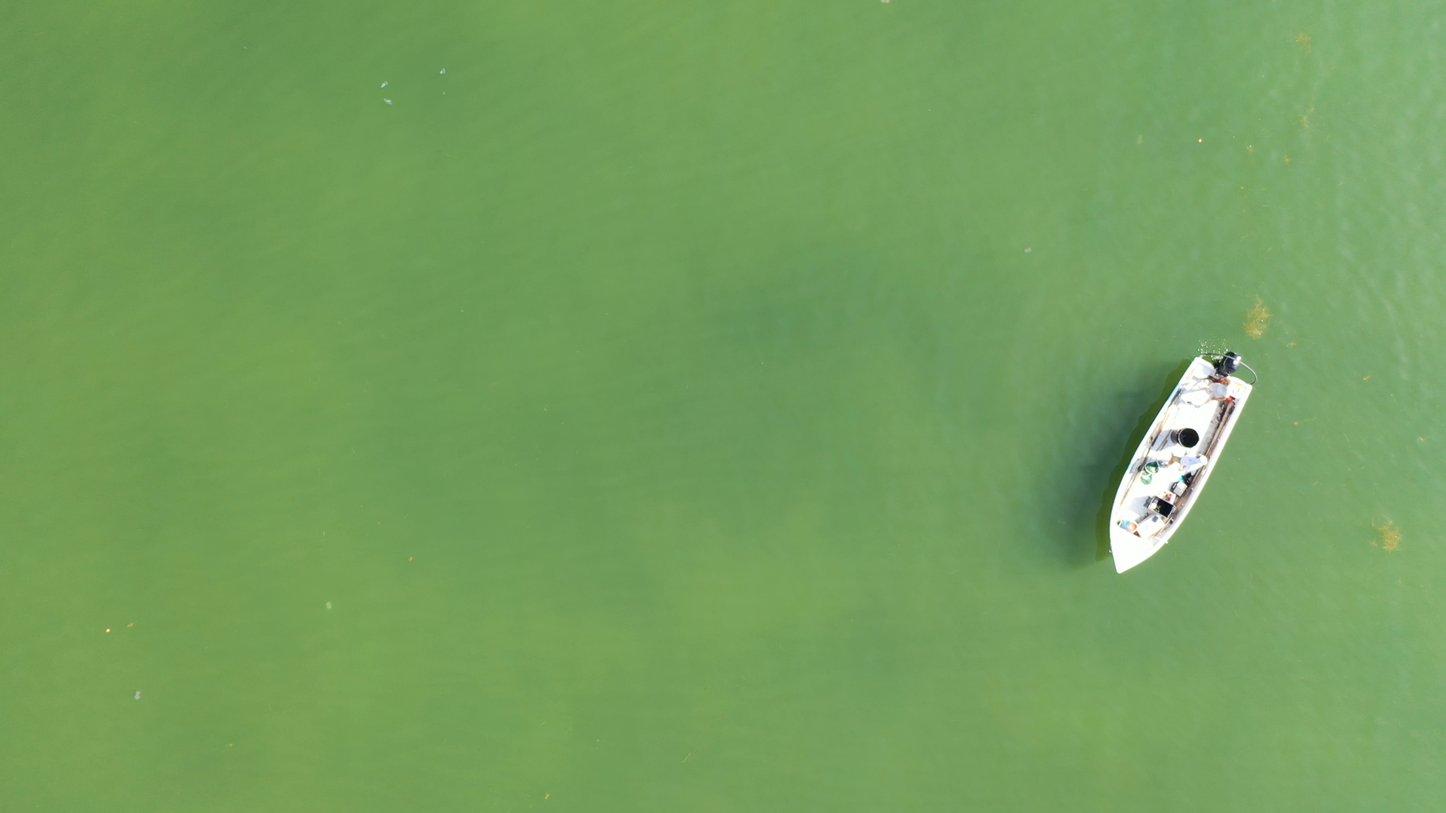meduse: (1139, 134, 1147, 144), (325, 602, 333, 611), (135, 691, 143, 699), (881, 0, 890, 6), (1025, 247, 1032, 253)
